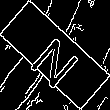N_NE: (24, 23, 86, 87)
